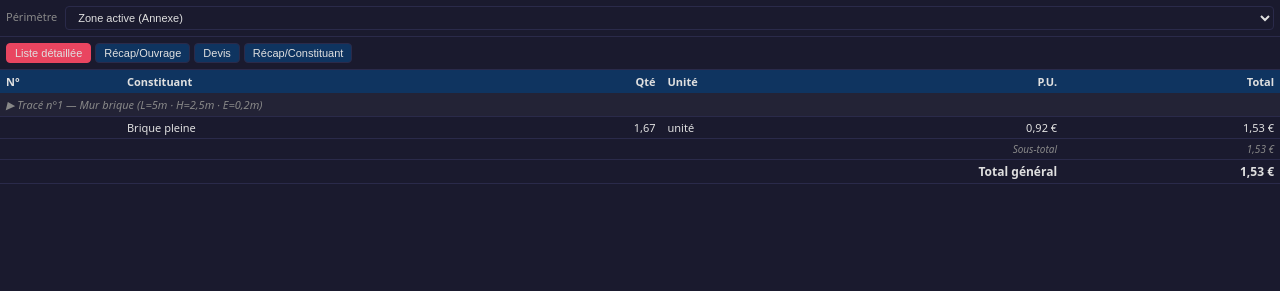
Test case: ChiffrageFloat › scope › Should name the zone of each trace in the detailed list when a group is chosen
Select "Maison complète" in the dropdown with test id "chiffrage-scope" at (670, 18), box top-left (65, 6), bottom-right (1274, 30)
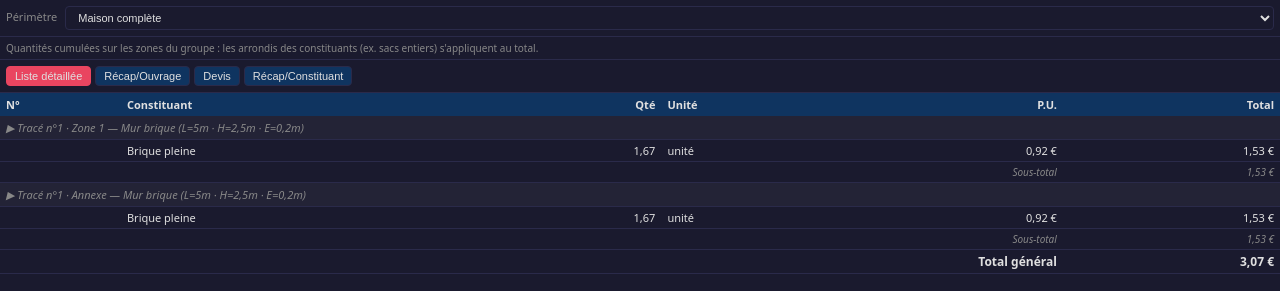
expect the text "Tracé n°1 · Annexe — Mur brique" is shown: met, box top-left (0, 182), bottom-right (1279, 206)
